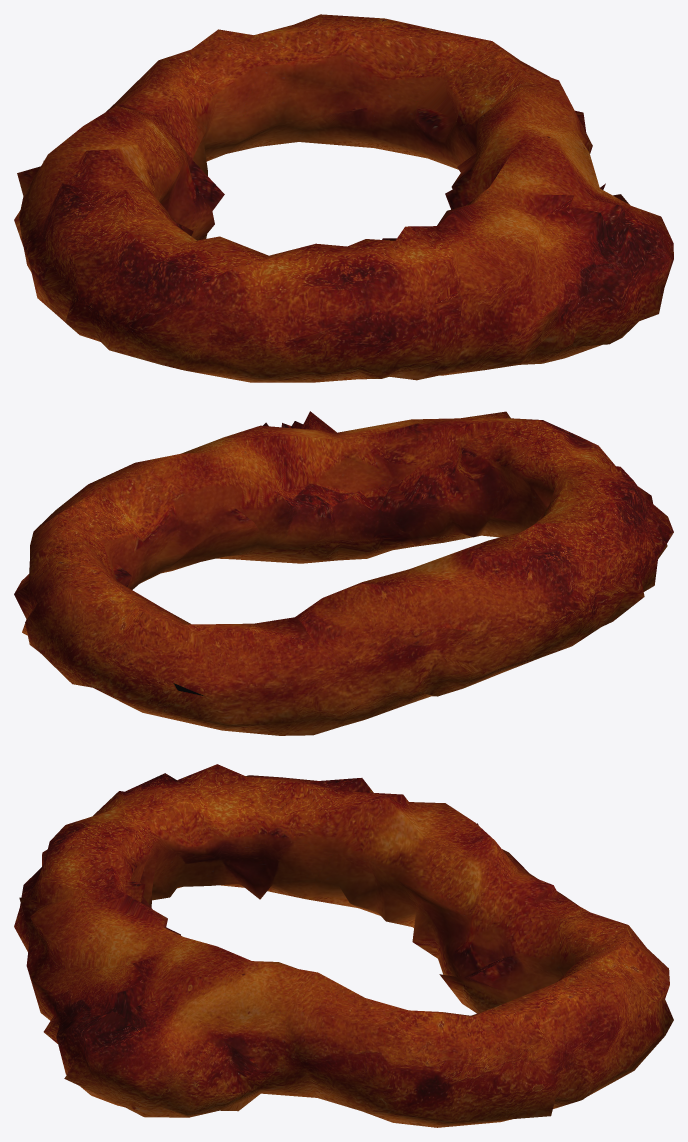
Rendered from Aro de cebolla quemada.fbx.
The picture shows the model from 3 angles, top to bottom: view 1: azimuth 30°, elevation 25°; view 2: azimuth 150°, elevation 25°; view 3: azimuth 270°, elevation 25°; orthographic projection. The views are drawn at different scales.
Visible parts, largest first — view 1: Aro_cebolla_quemada:tripo_node_f58370b5_4e9d_4d8d_bf92_55c5c; view 2: Aro_cebolla_quemada:tripo_node_f58370b5_4e9d_4d8d_bf92_55c5c; view 3: Aro_cebolla_quemada:tripo_node_f58370b5_4e9d_4d8d_bf92_55c5c.
Boxes of the visible parts, box(x1,y1,x2,y2) form: Aro_cebolla_quemada:tripo_node_f58370b5_4e9d_4d8d_bf92_55c5c: box(14, 14, 673, 382); Aro_cebolla_quemada:tripo_node_f58370b5_4e9d_4d8d_bf92_55c5c: box(14, 411, 673, 735); Aro_cebolla_quemada:tripo_node_f58370b5_4e9d_4d8d_bf92_55c5c: box(14, 764, 673, 1127).
Size of the model in its own units: 4.82 by 1.41 by 5.07.
